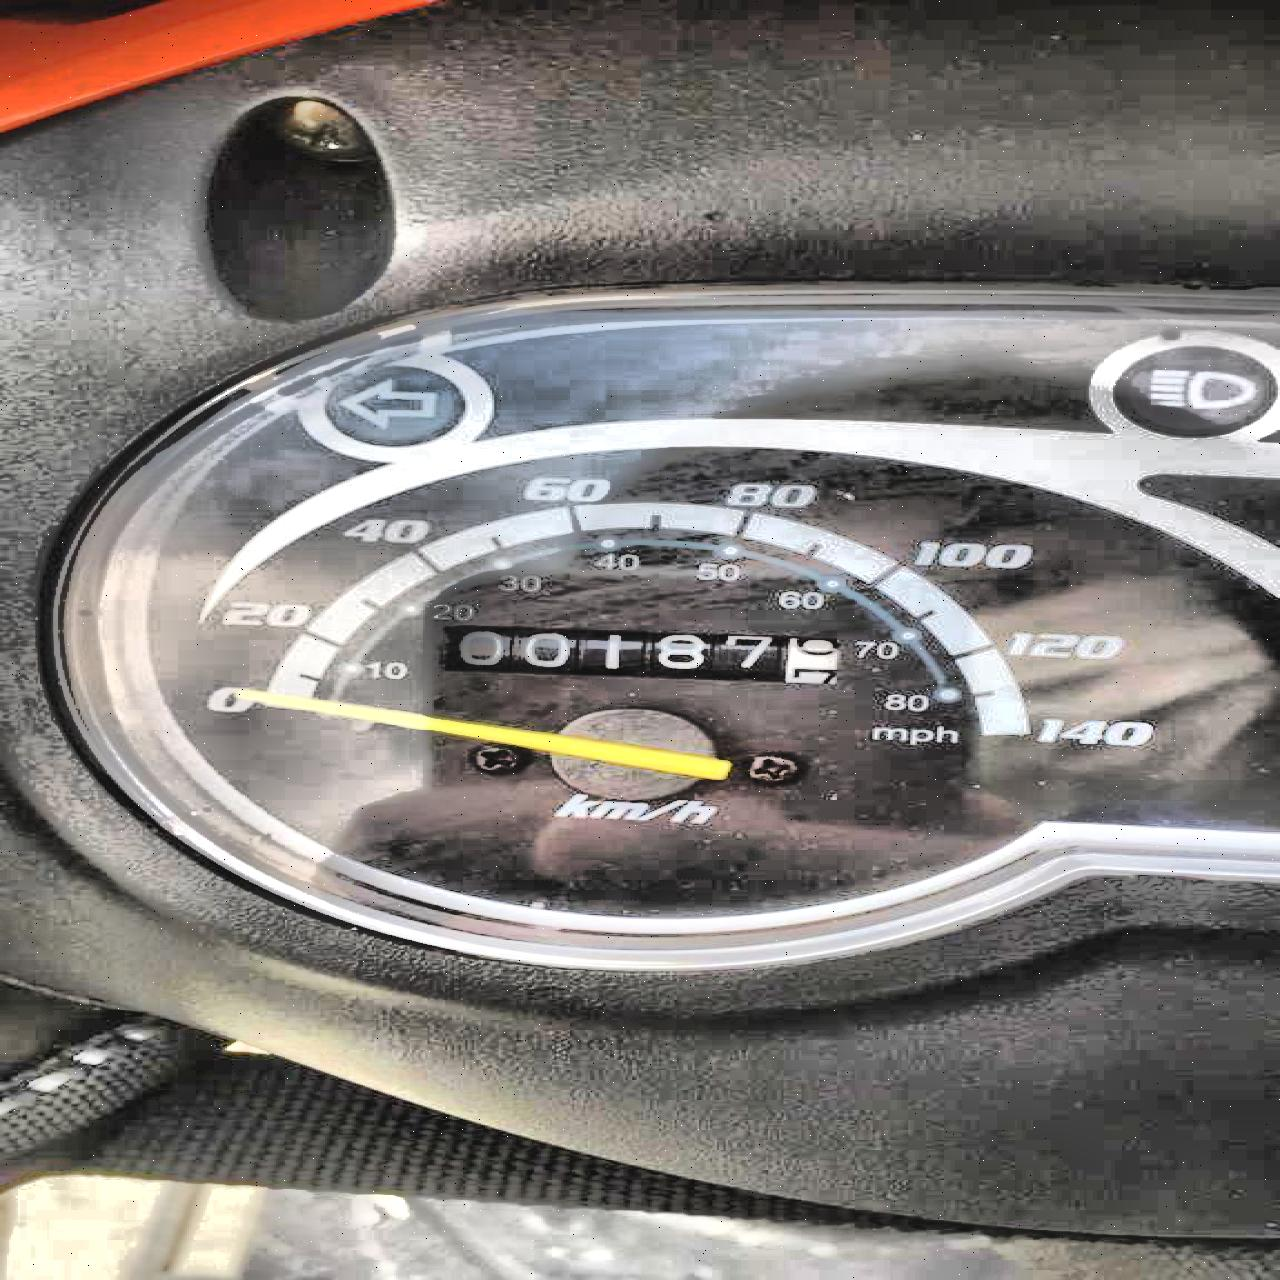0: (519, 631, 570, 668), (454, 627, 503, 665)
1: (594, 629, 628, 670)
6: (785, 631, 842, 655)
7: (719, 629, 772, 669), (783, 663, 842, 686)
8: (651, 629, 708, 670)
odometer: (421, 619, 849, 688)
